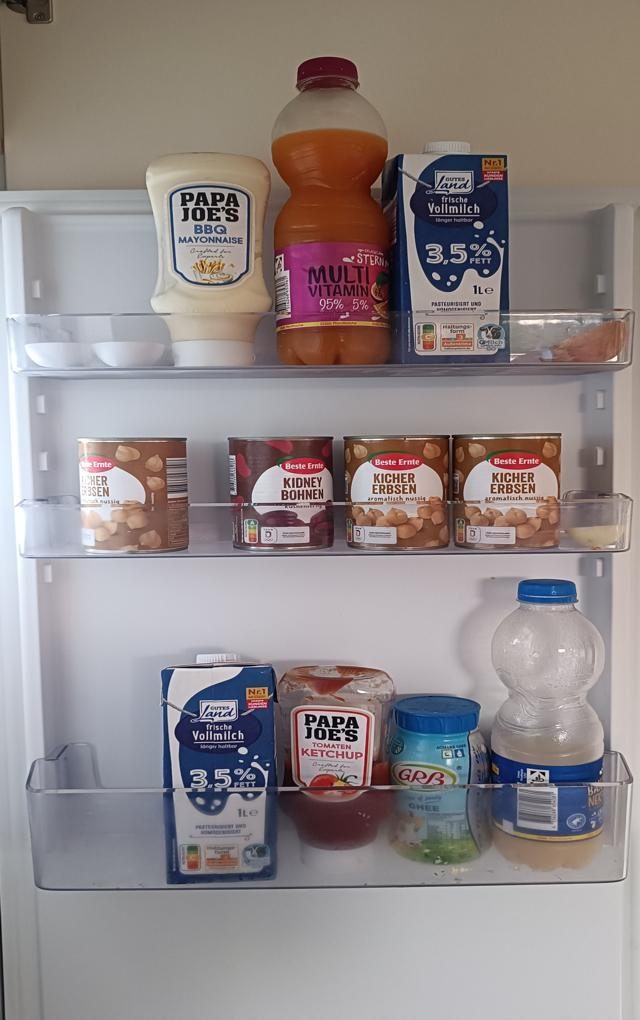bananajuice: (494, 573, 605, 870)
chickpeas: (342, 436, 452, 554), (452, 433, 562, 550), (79, 438, 190, 551)
ghee: (388, 692, 495, 865)
kidneybeans: (226, 439, 334, 546)
mayoniasie: (144, 150, 273, 372)
milk: (387, 139, 516, 368), (162, 655, 279, 885)
orangejuice: (269, 52, 397, 370)
tomatoketchup: (280, 662, 393, 875)
